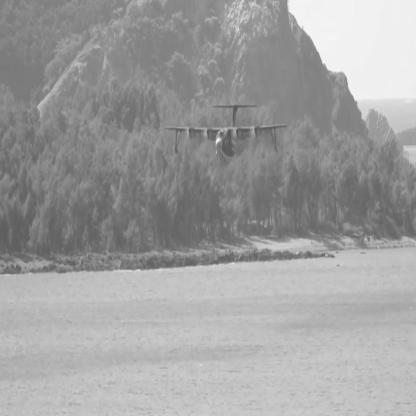US2: (165, 105, 289, 168)
